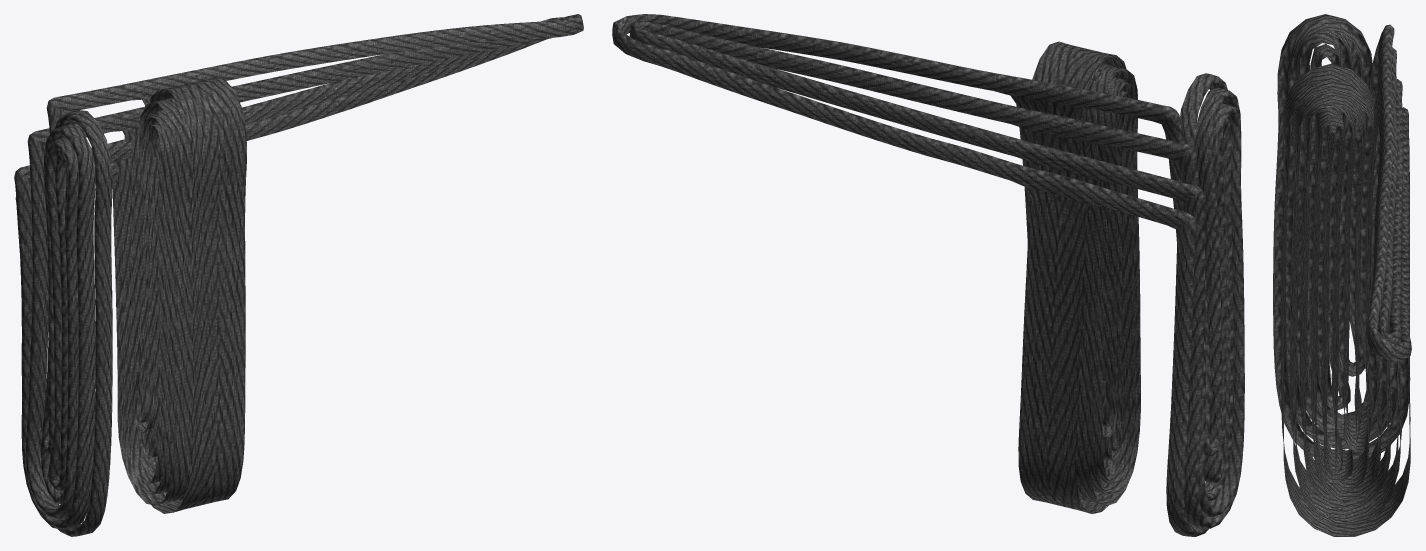
The model's file is BlackTowel002.obj.
3 views of the same model, side by side, from view 1: azimuth 30°, elevation 25°; view 2: azimuth 150°, elevation 25°; view 3: azimuth 270°, elevation 25° (orthographic). The views are drawn at different scales.
Visible parts, largest first — view 1: BlackTowel002; view 2: BlackTowel002; view 3: BlackTowel002.
Boxes of the visible parts, bbox=[...] form: BlackTowel002: bbox=[14, 14, 583, 536]; BlackTowel002: bbox=[612, 14, 1244, 536]; BlackTowel002: bbox=[1273, 14, 1411, 536].
Bounding box in the file's own units: 0.3572 × 0.2564 × 0.0718.
Materials: 1 (1 with a texture image).
